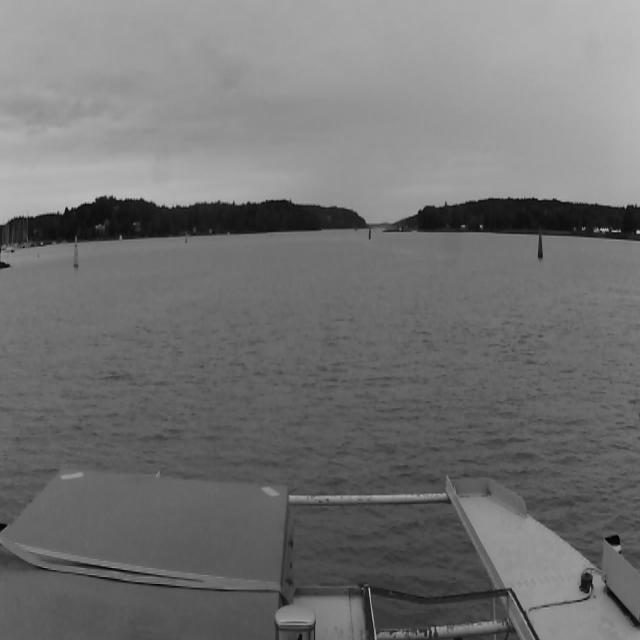buoy: (537, 227, 543, 260), (73, 236, 79, 268), (368, 226, 372, 239), (185, 230, 188, 243)
